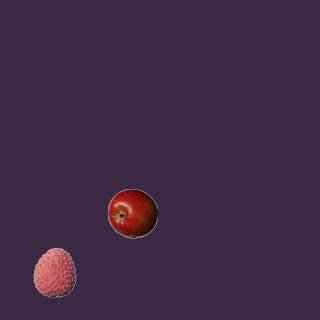Apple Braeburn: (107, 188, 157, 238)
Lychee: (29, 247, 79, 297)
